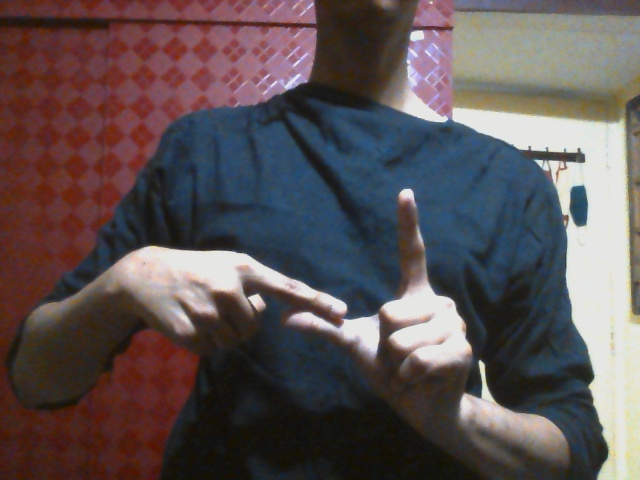J: (133, 189, 474, 411)
